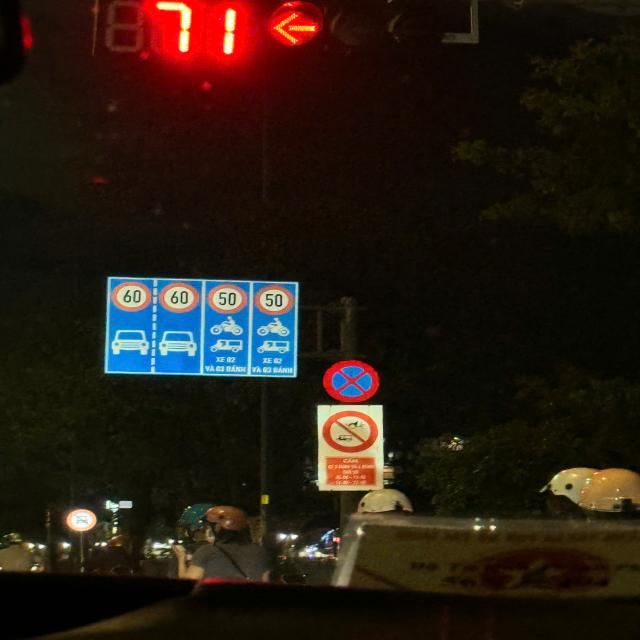Bien bao cam dung xe va do xe: (320, 353, 384, 404)
Bien bao toc do toi da cho phep: (154, 276, 200, 317), (250, 282, 300, 316), (108, 278, 153, 315), (205, 282, 249, 314)
